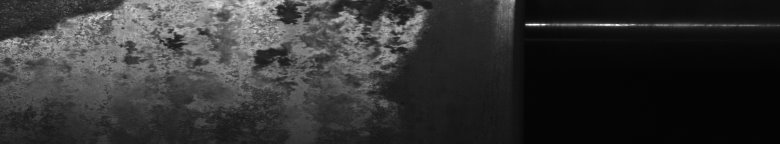kb: (4, 4, 388, 109)
